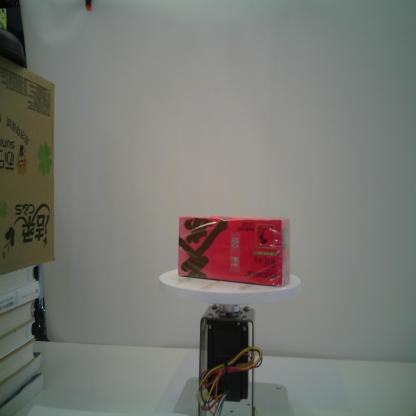Instant Drink: (177, 214, 291, 288)
